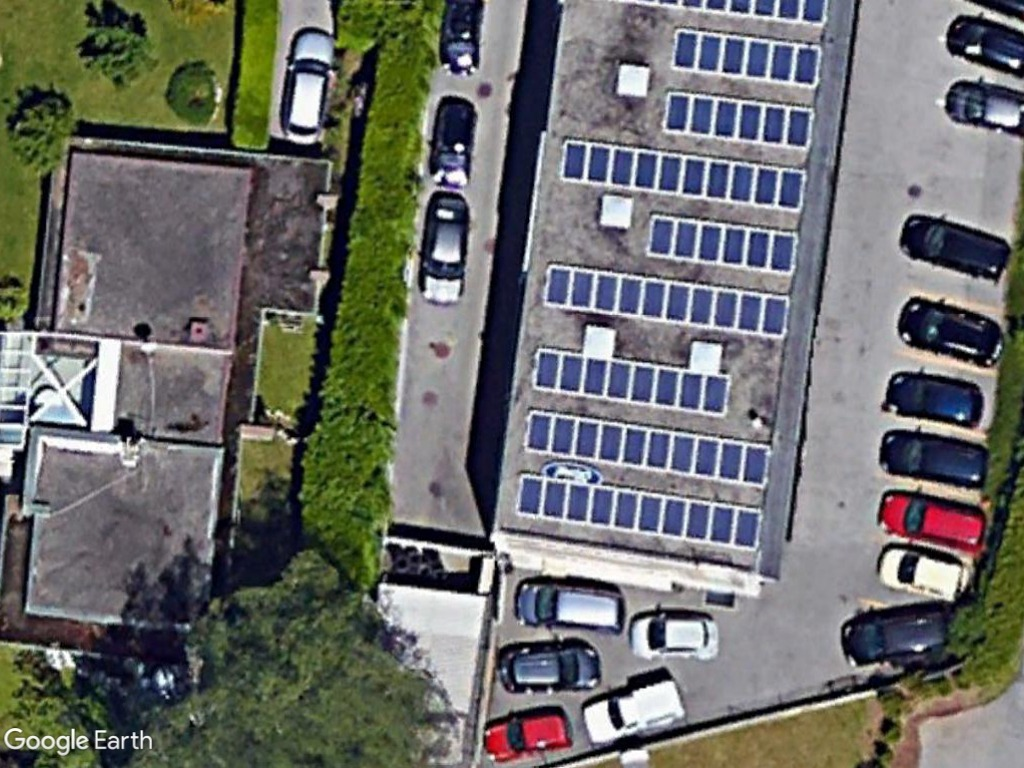car: (894, 212, 1013, 283), (894, 295, 1005, 370), (873, 423, 992, 489), (871, 489, 991, 552), (581, 680, 700, 743), (277, 26, 338, 147), (510, 579, 625, 635), (874, 540, 975, 603), (420, 186, 472, 308), (882, 368, 987, 427), (496, 640, 604, 694), (476, 704, 572, 762), (626, 613, 723, 664)
